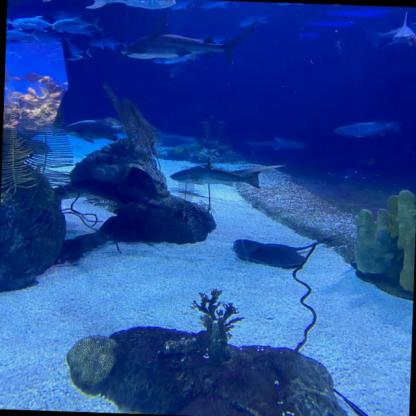fish: (169, 165, 261, 188), (40, 0, 175, 13), (63, 119, 130, 144), (332, 119, 400, 140), (52, 14, 104, 34), (237, 9, 278, 29), (12, 14, 54, 31), (6, 28, 39, 43), (35, 32, 73, 45), (202, 0, 239, 12), (90, 36, 120, 50), (171, 0, 195, 12), (170, 63, 186, 78), (18, 72, 42, 82), (276, 2, 314, 8), (6, 14, 14, 29), (5, 68, 11, 85)
shark: (123, 11, 257, 67), (360, 10, 415, 51), (246, 136, 311, 151), (58, 44, 92, 61)
stingray: (55, 163, 156, 204), (231, 239, 306, 269), (325, 167, 378, 180), (159, 136, 195, 147)
